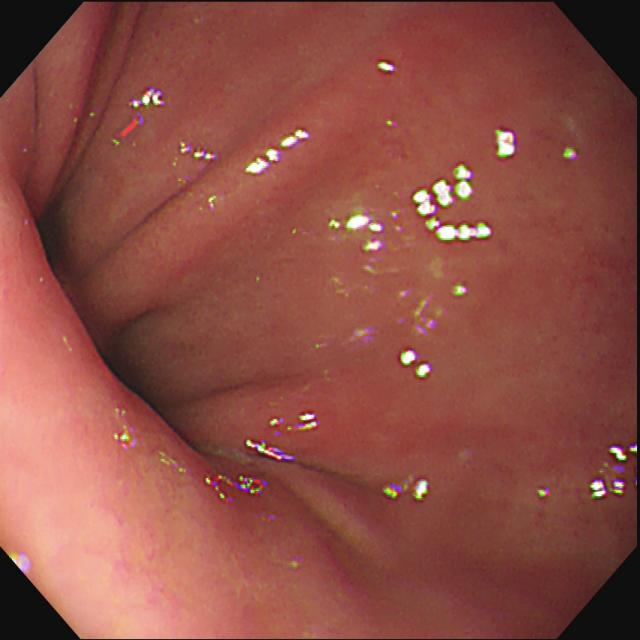I: (12, 173, 231, 463)
U: (410, 163, 496, 243), (246, 125, 312, 178), (587, 443, 639, 503), (327, 212, 385, 255), (203, 473, 269, 501), (377, 477, 432, 505), (109, 402, 138, 451), (245, 436, 293, 463), (399, 348, 437, 382), (490, 125, 521, 162), (111, 116, 145, 148), (176, 139, 217, 165), (272, 411, 320, 433), (129, 89, 168, 110), (374, 60, 397, 76), (562, 146, 583, 162), (449, 281, 470, 297), (535, 485, 553, 503)
